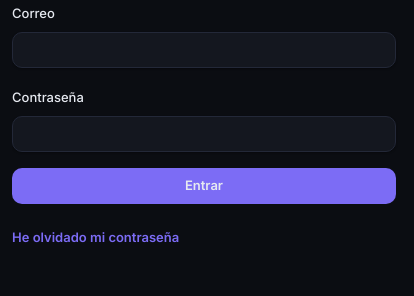
Test: LoginForm › con credenciales incorrectas muestra el mensaje de error
Type "operator@stratos.local" into the field labelled "Correo" at (204, 50), box [12,32,396,68]
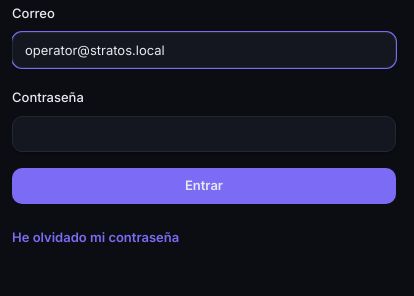
Type "wrong" into the password field labelled "Contraseña" at (204, 134), box [12,116,396,152]
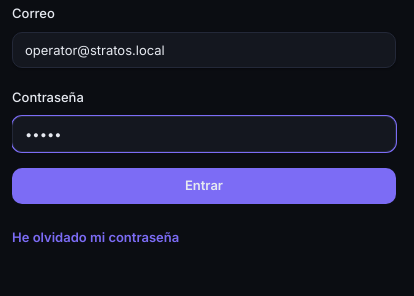
Click the button "Entrar" at (204, 186), box [12,168,396,204]
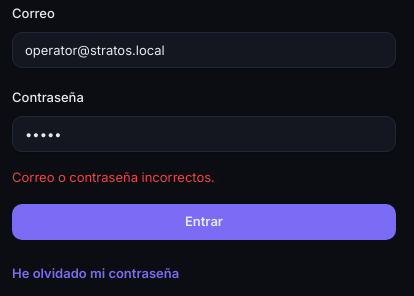
Now the text "Correo o contraseña incorrectos." is shown, box [12,169,215,185]
